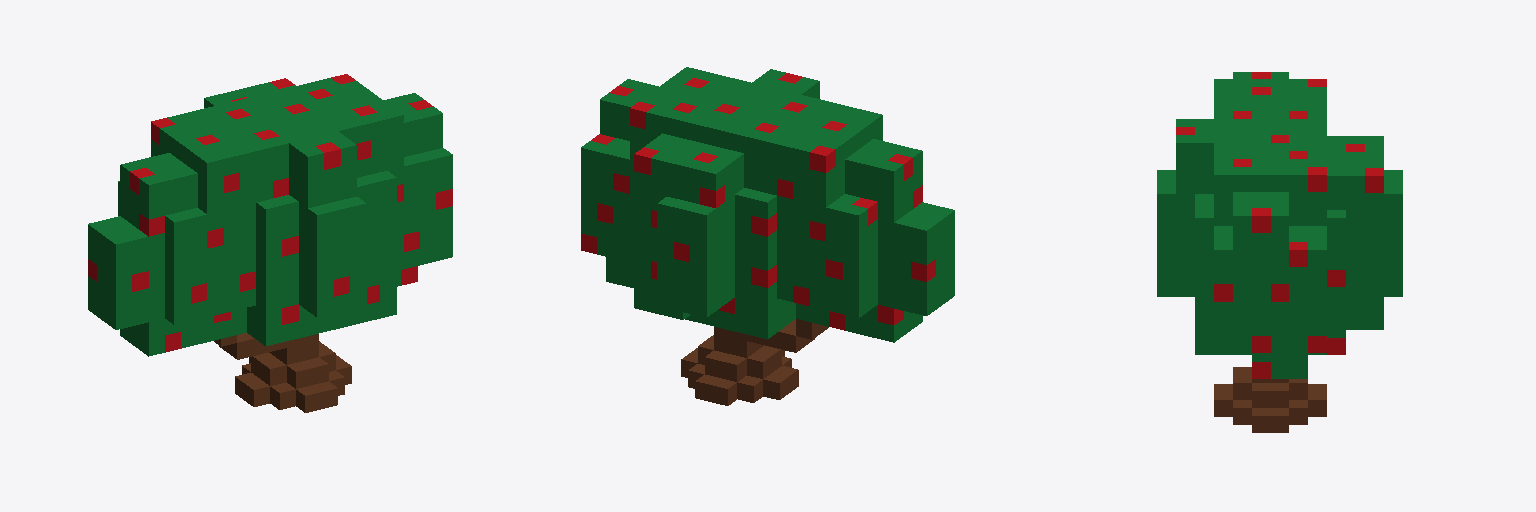
The picture shows the model from 3 angles: view 1: azimuth 30°, elevation 25°; view 2: azimuth 150°, elevation 25°; view 3: azimuth 270°, elevation 25°; orthographic projection.
Visible parts, largest first — view 1: object 1; view 2: object 1; view 3: object 1.
Part boxes in pixels (x1,y1,x2,y2): object 1: (88, 74, 452, 412); object 1: (581, 67, 954, 405); object 1: (1157, 72, 1402, 432).
Size of the model in its own units: 2 by 1.6 by 1.3.
Materials: 1 (1 with a texture image).